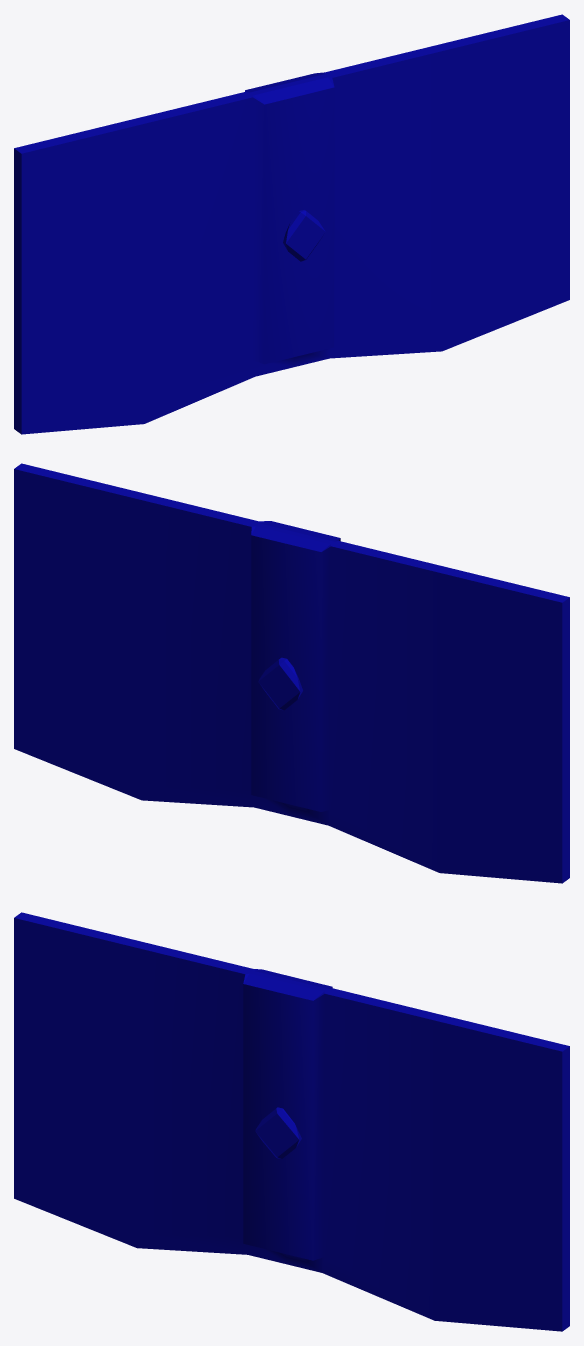
File: puertagande.fbx
3 renders of one model, top to bottom at view 1: azimuth 30°, elevation 25°; view 2: azimuth 150°, elevation 25°; view 3: azimuth 330°, elevation 25°, orthographic.
Parts seen in each view (by area): view 1: PuertaPasilloLargo:polySurface4; view 2: PuertaPasilloLargo:polySurface4; view 3: PuertaPasilloLargo:polySurface4.
Boxes of the visible parts, x1=… form: PuertaPasilloLargo:polySurface4: x1=14, y1=14, x2=569, y2=434; PuertaPasilloLargo:polySurface4: x1=14, y1=463, x2=569, y2=883; PuertaPasilloLargo:polySurface4: x1=14, y1=912, x2=569, y2=1331.
Bounding box in the file's own units: 1467 × 768 × 136.
